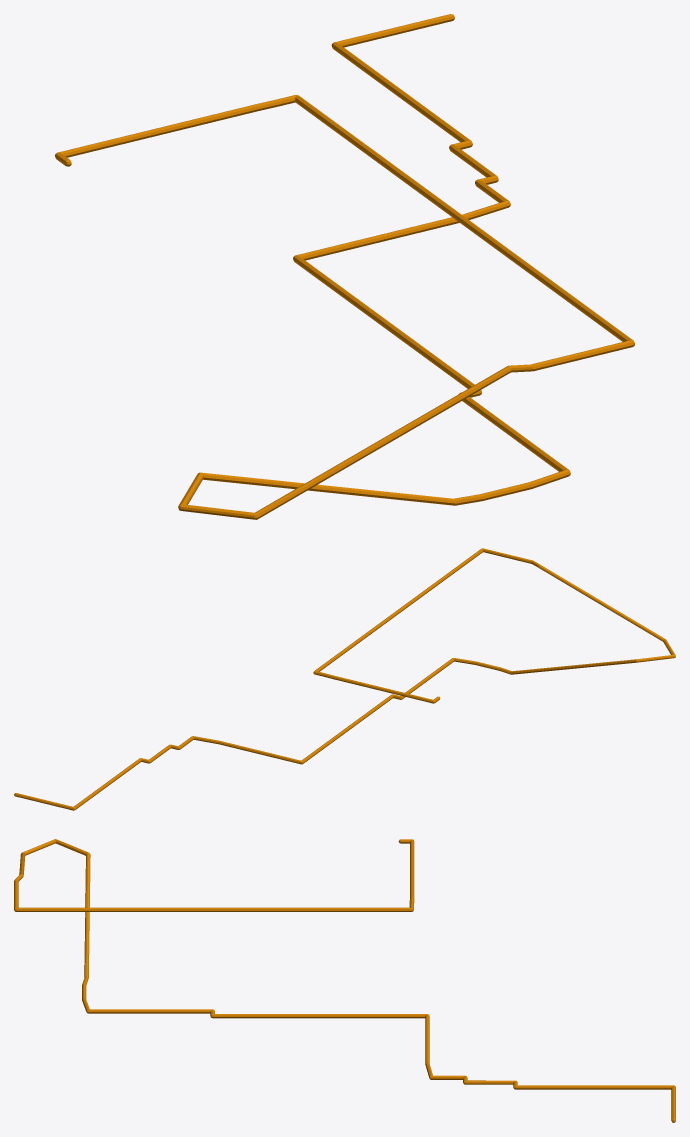
3 renders of one model, top to bottom at view 1: azimuth 30°, elevation 25°; view 2: azimuth 150°, elevation 25°; view 3: azimuth 270°, elevation 25°, orthographic. The views are drawn at different scales.
Bounding box in the file's own units: 2412 × 520 × 2929.
